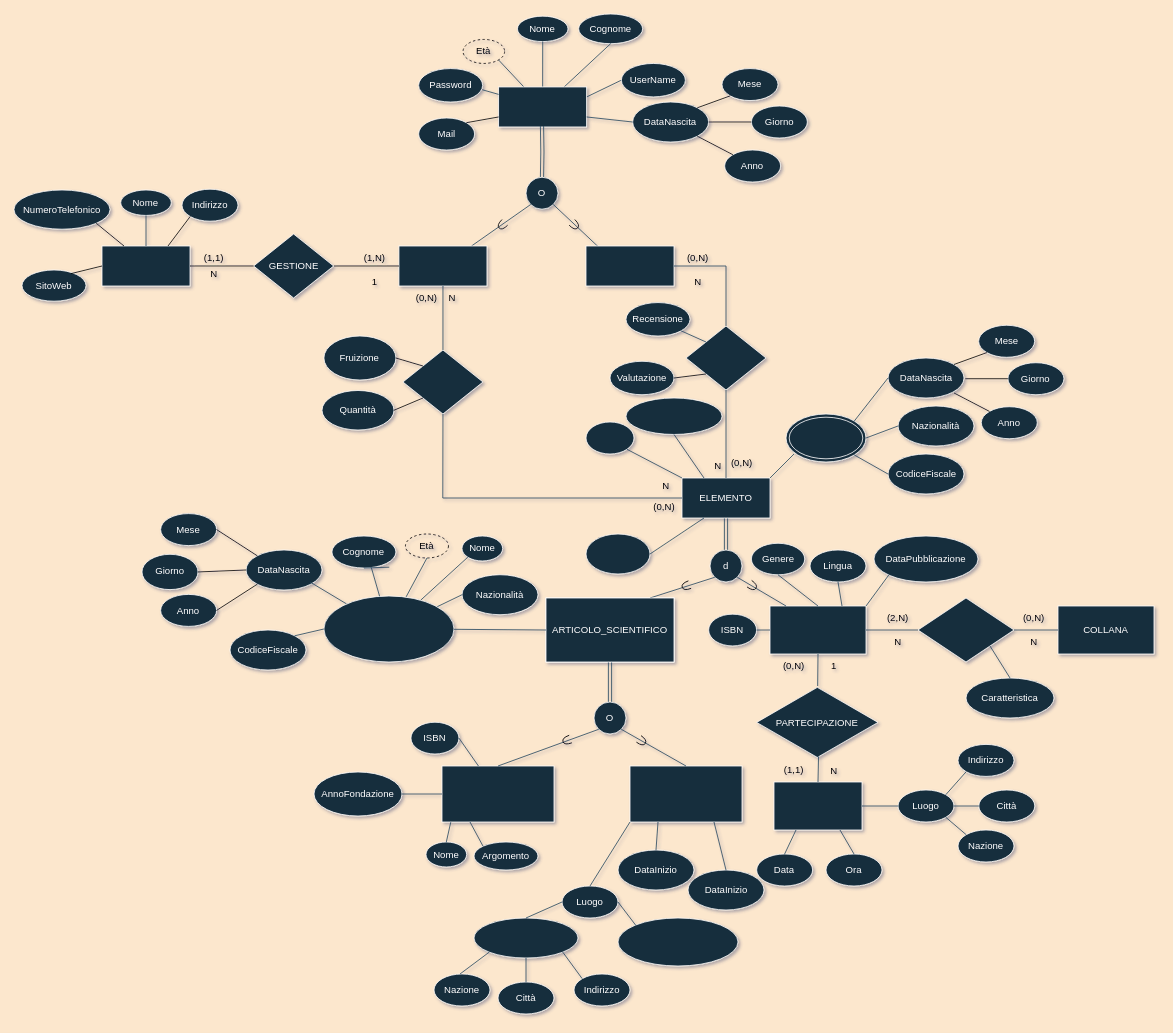
This 1173x1033 diagram has some shape labels left out. Each missing label, with the centre of its shape:
AnnoPubblicazione: (673,415)
APPARTENENZA: (965,629)
Autore: (825,437)
CONFERENZA: (685,793)
Editore: (617,553)
LIBRERIA: (145,265)
LIBRO: (817,629)
LuogoConferenza: (525,937)
POSSESSO: (442,381)
PREFERITI: (725,357)
PRESENTAZIONE: (817,805)
ResponsabilePubblicazione: (388,628)
RIVISTA: (497,793)
STANDARD: (629,265)
StrutturaOrganizzatrice: (677,941)
Titolo: (609,437)
UTENTE: (542,106)
VENDITORE: (442,265)
